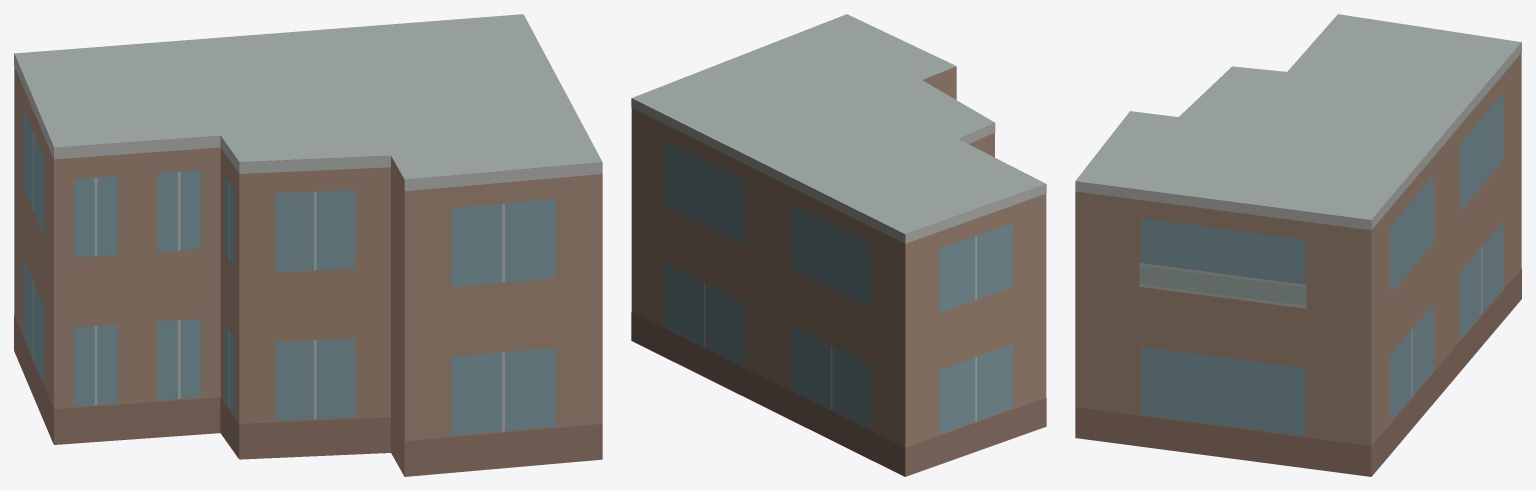
The model's file is survey-upis-32643990.glb.
The picture shows the model from 3 angles, left to right: view 1: azimuth 30°, elevation 25°; view 2: azimuth 150°, elevation 25°; view 3: azimuth 270°, elevation 25°; orthographic projection. The views are drawn at different scales.
Parts seen in each view (by area): view 1: survey-upis-32643990.tmp; view 2: survey-upis-32643990.tmp; view 3: survey-upis-32643990.tmp.
Boxes of the visible parts, left/top/right/bottom form: survey-upis-32643990.tmp: left=14, top=14, right=602, bottom=476; survey-upis-32643990.tmp: left=631, top=14, right=1046, bottom=476; survey-upis-32643990.tmp: left=1075, top=14, right=1521, bottom=476.
Bounding box in the file's own units: 10.51 × 6.1 × 9.62.
